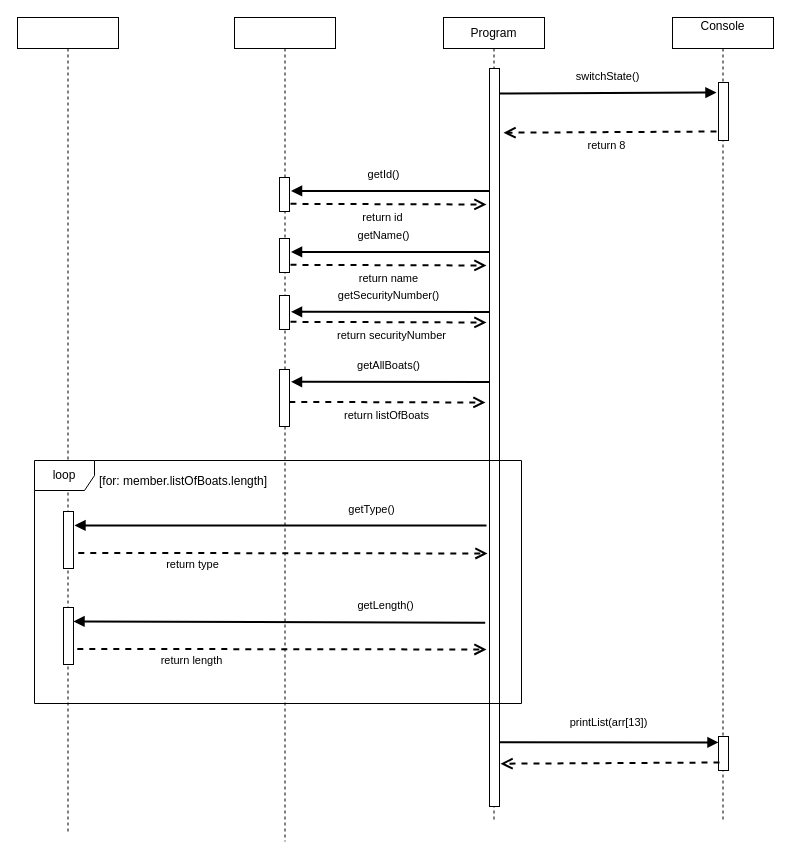
Some shapes in this 791 by 859 pixel diagram are drawn without their labels. The shapes that lost their labels are listed below. From the top down, each one's box as (x1, y1, x2, y2) in pixels, then its label:
(16, 16, 118, 832): Boat
(234, 16, 336, 842): Member
